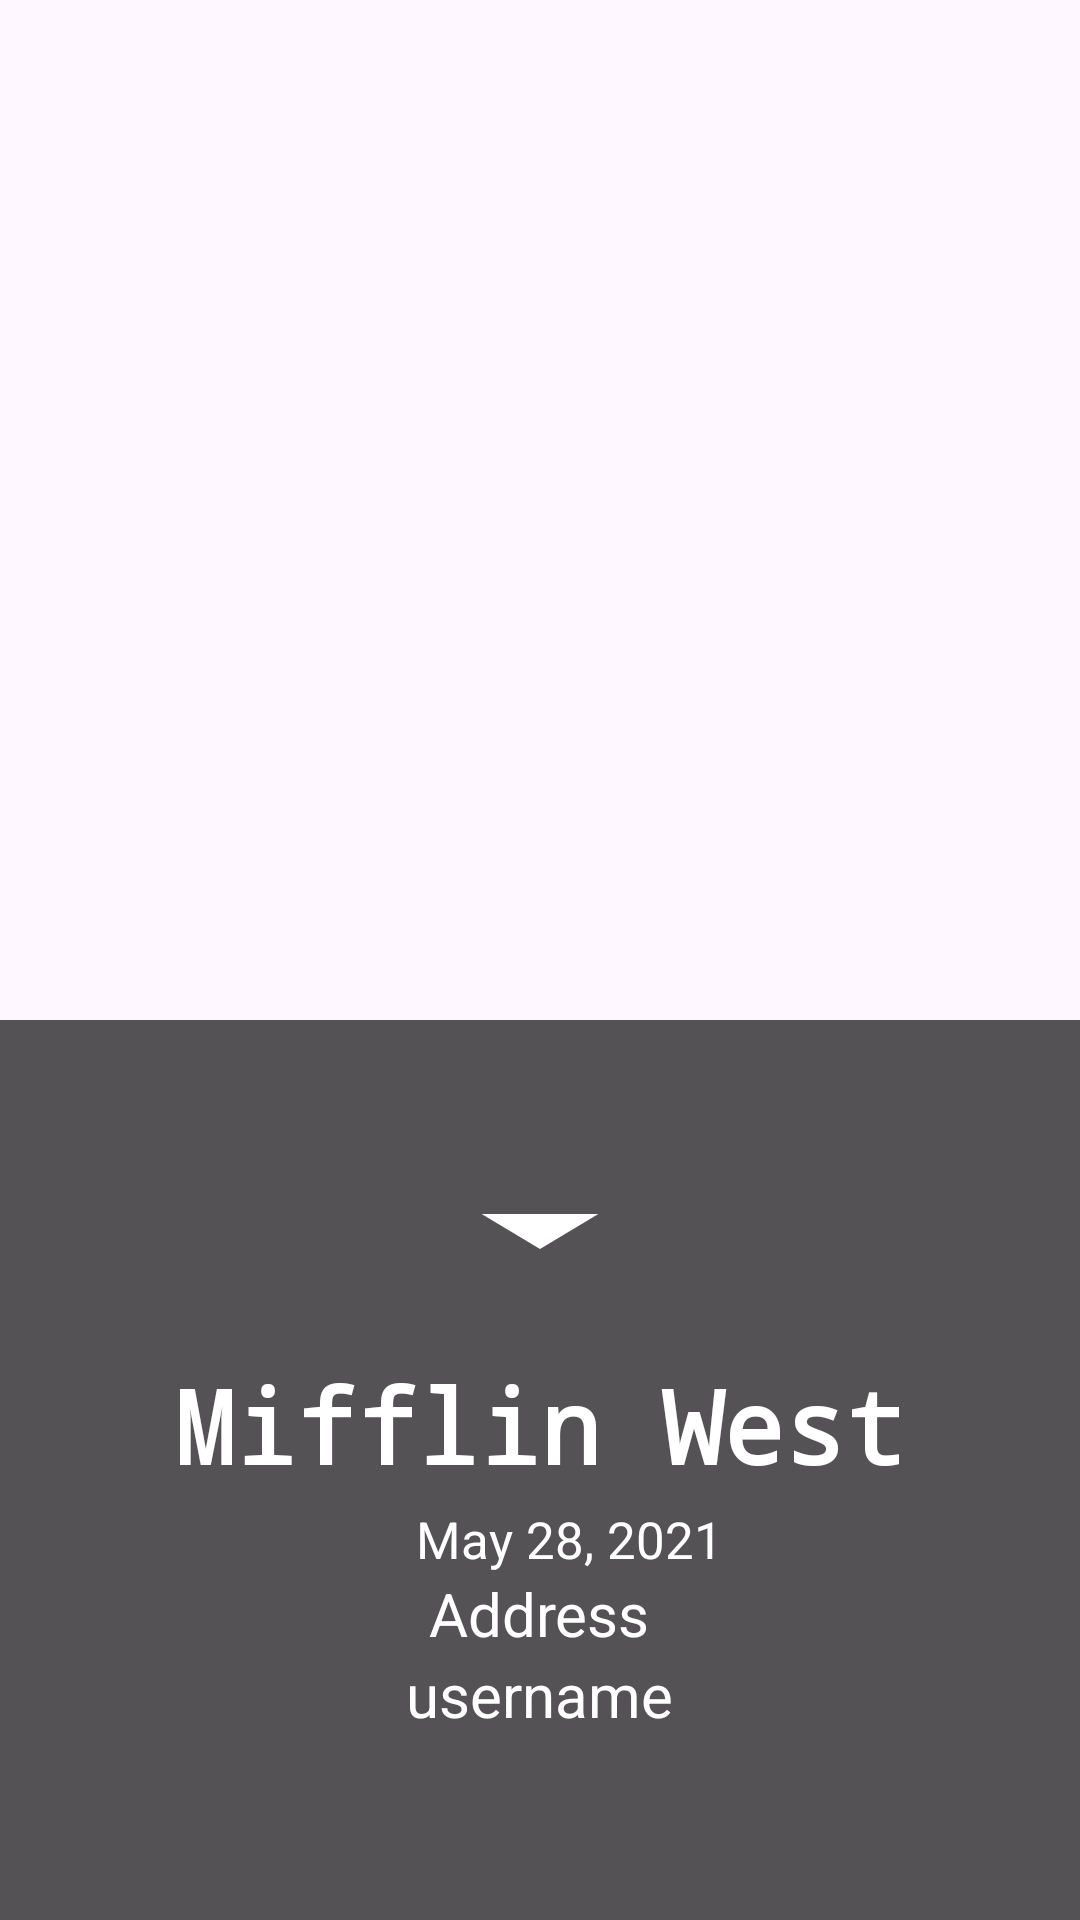

Icons on this 1080px x 1920px Android screen, each with its box as (x1, y1, x2, y2):
arrow down: (482, 1214, 598, 1249)
